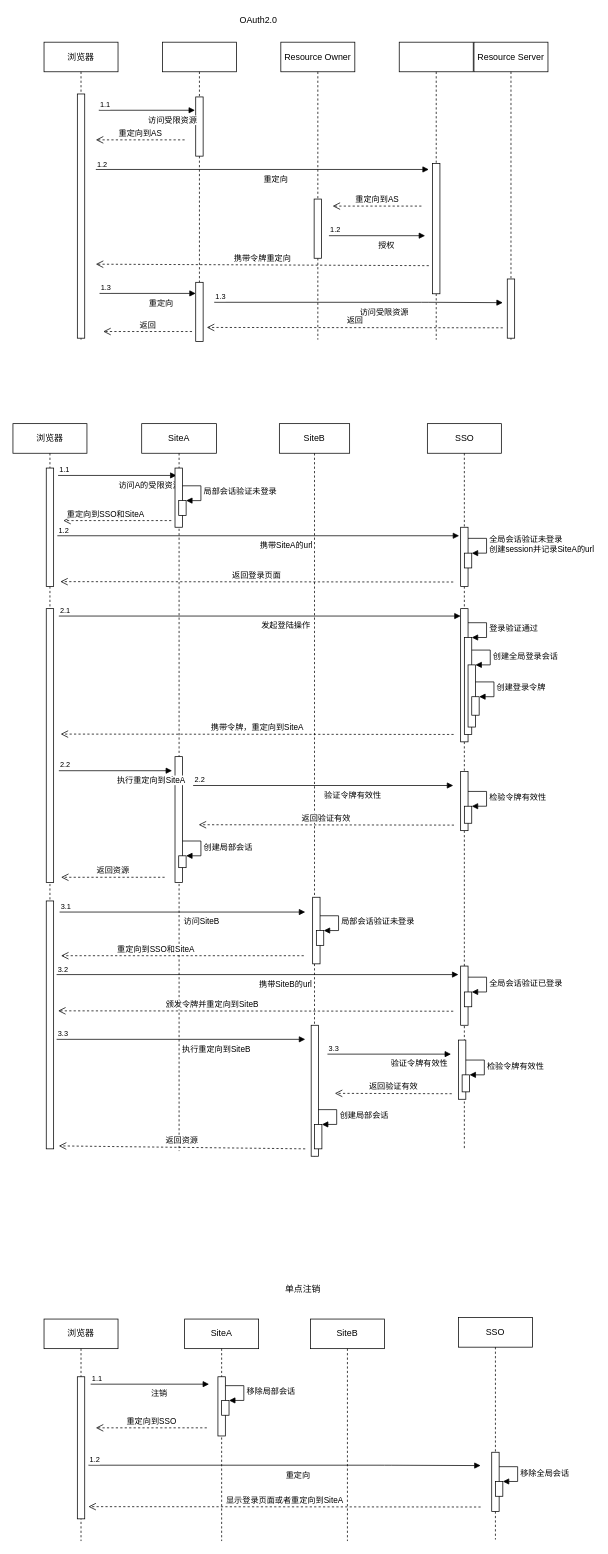
This 608x1554 diagram has some shape labels left out. Each missing label, with the box of its shape:
Authorization Server: (398, 41, 473, 340)
SiteA（Client）: (162, 41, 236, 342)
